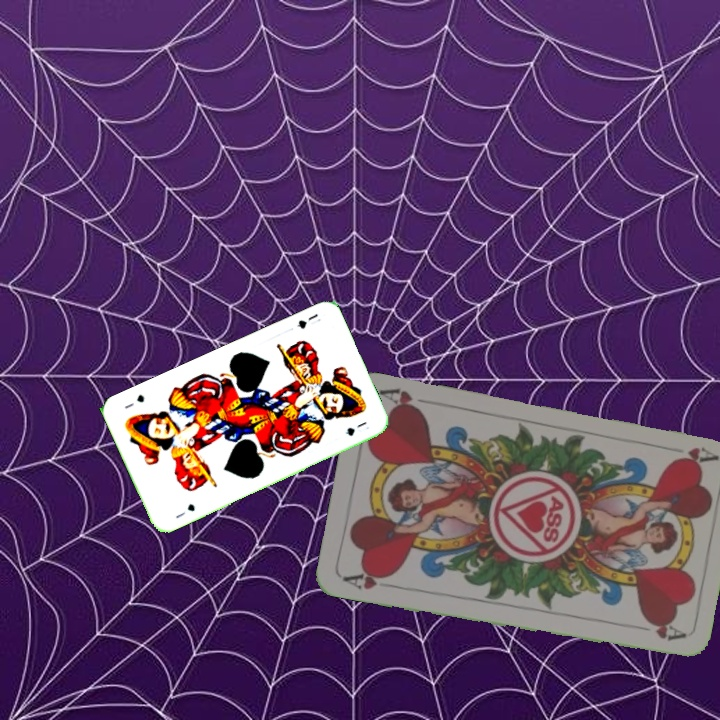GU: (293, 309, 323, 332), (172, 499, 198, 521)
HA: (339, 566, 399, 592), (669, 443, 719, 469)
